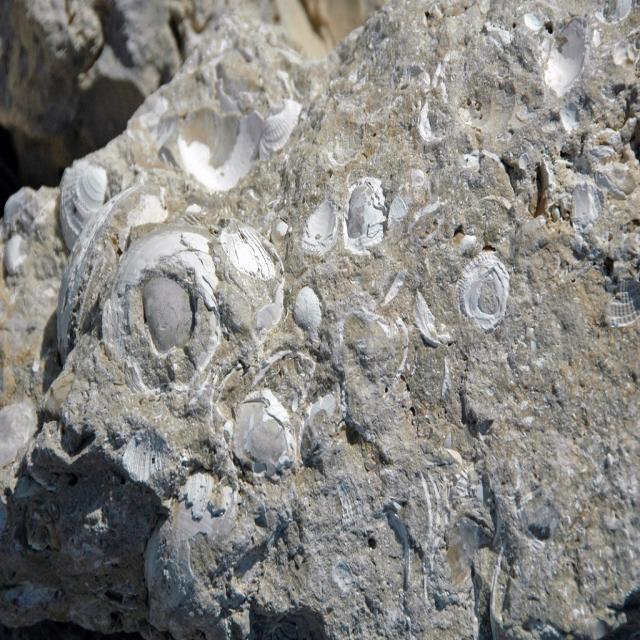Sedimentary: (1, 1, 638, 637)
